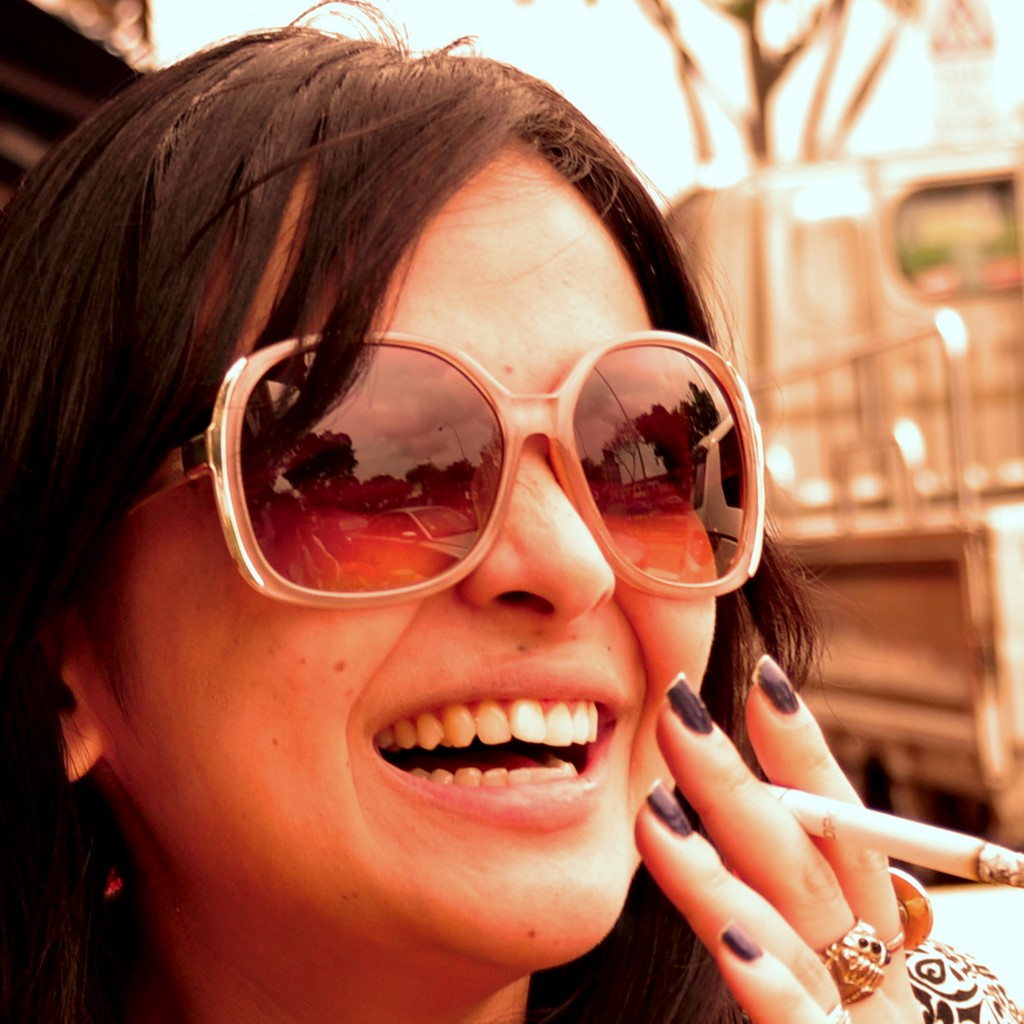sin_mascara: (146, 116, 721, 973)
